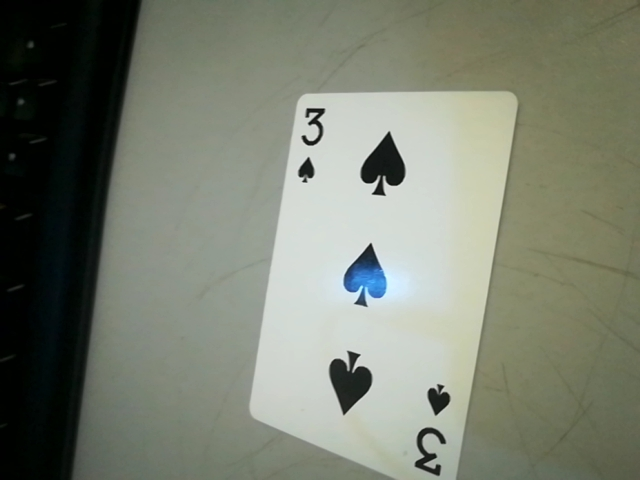ht 3: (286, 100, 336, 187)
